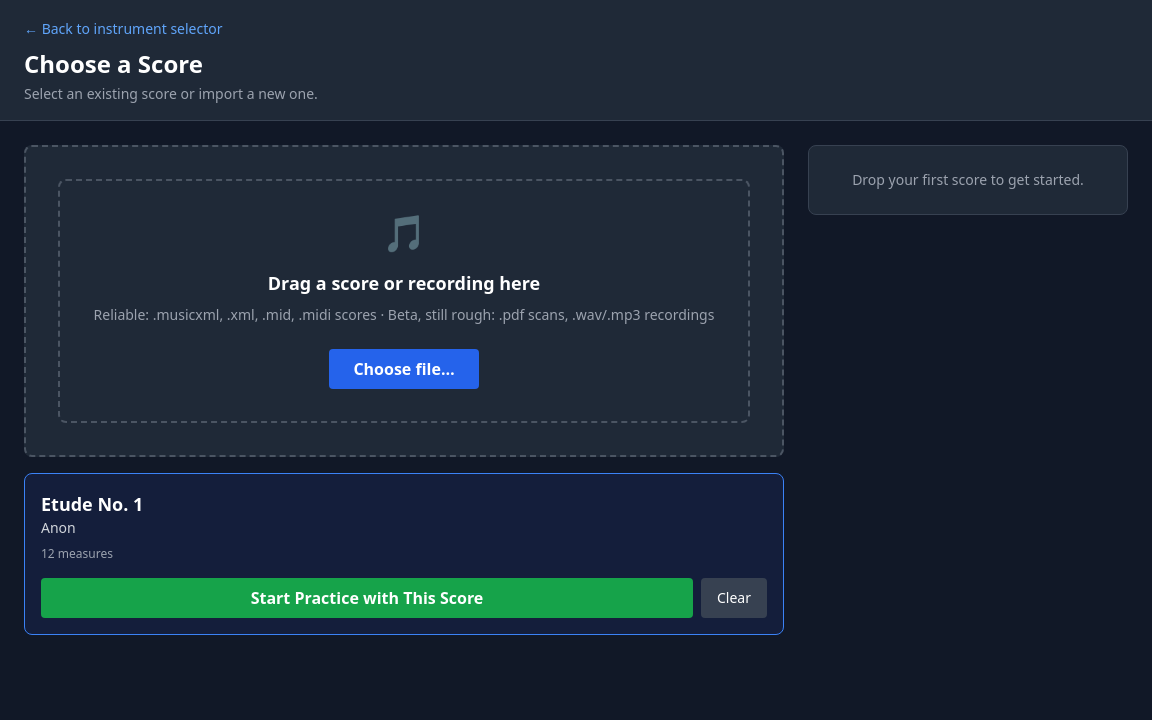
Test case: ScorePicker — start-with-score (#184) › surfaces a visible error when starting the session fails
Click the button "Start Practice with This Score" at (367, 598), box [41,578,693,618]
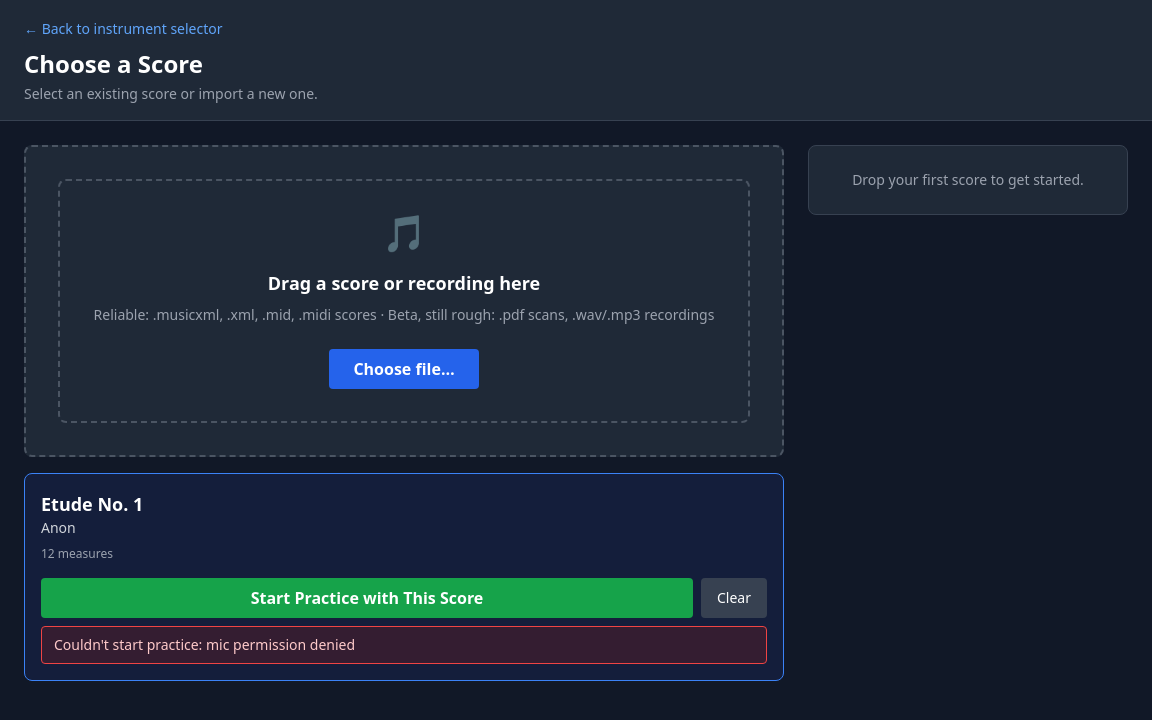
Now the text "Couldn't start practice: mic permission denied" is shown, box [41,626,767,664]
